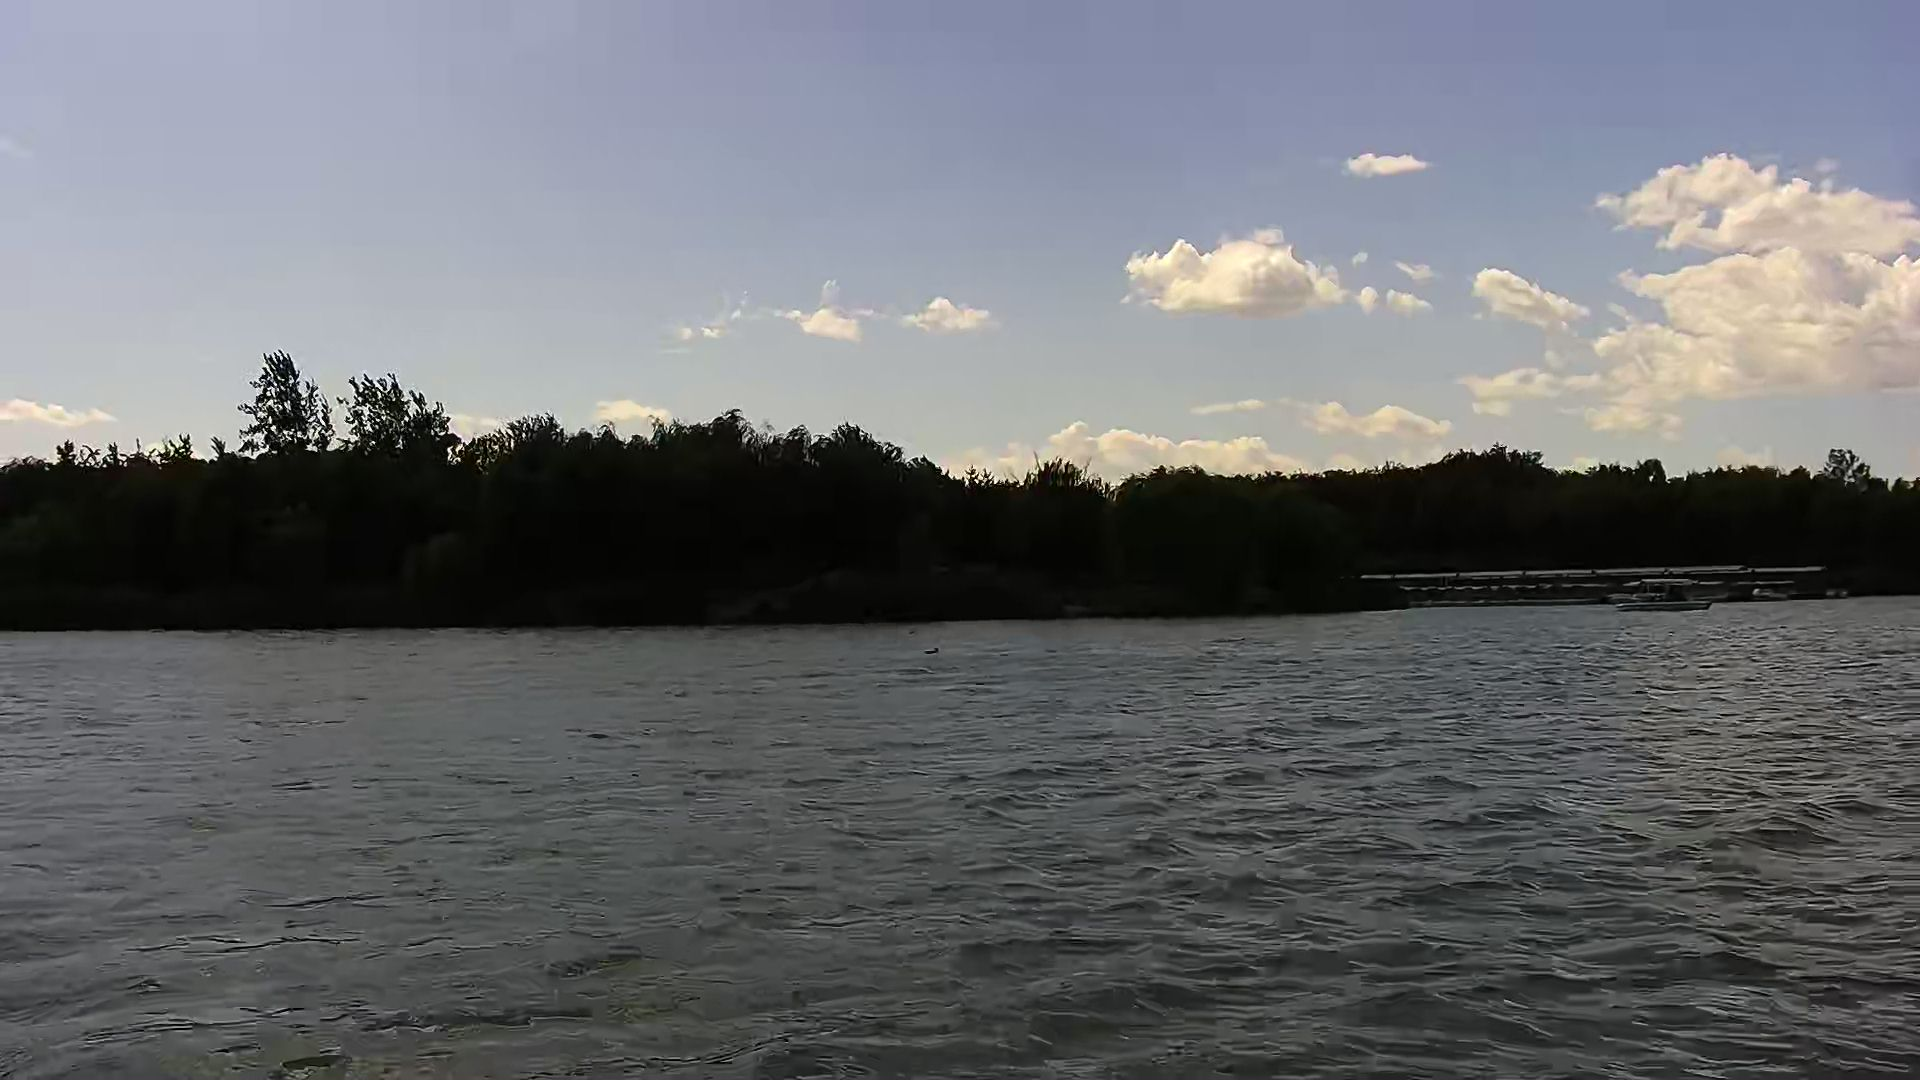boat: (1614, 575, 1725, 618)
harbor: (1354, 563, 1844, 607)
